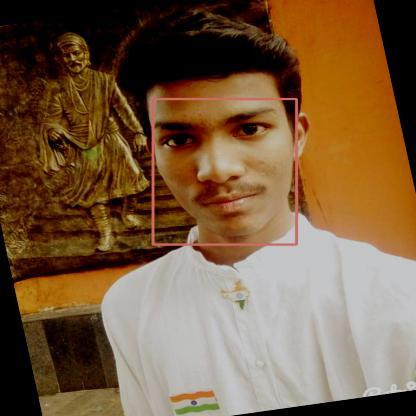without_mask: (153, 99, 296, 244)
